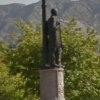Statue: (35, 3, 82, 76)
